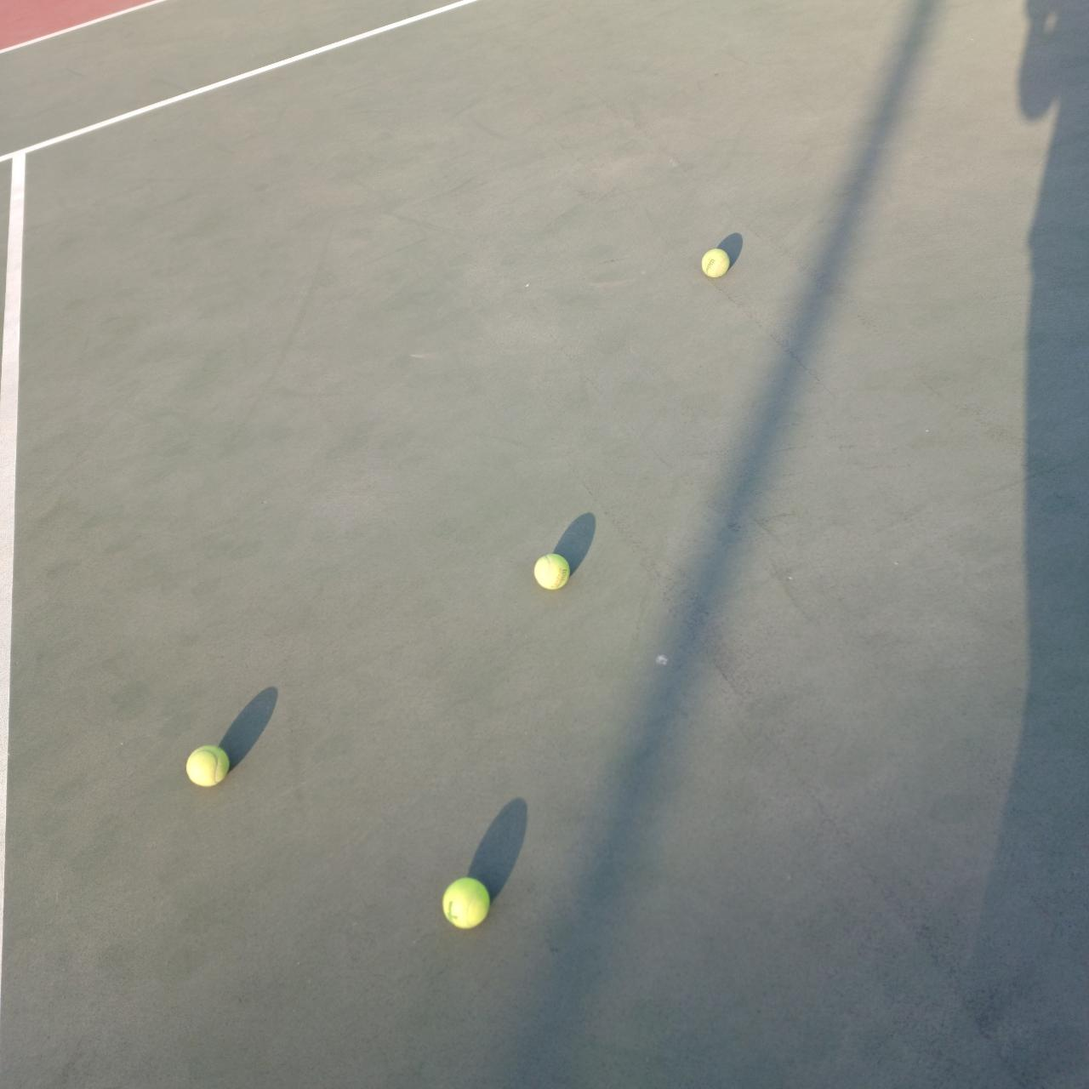tennis-ball: (440, 875, 491, 929), (184, 742, 230, 788), (532, 550, 571, 590), (702, 249, 730, 277)
